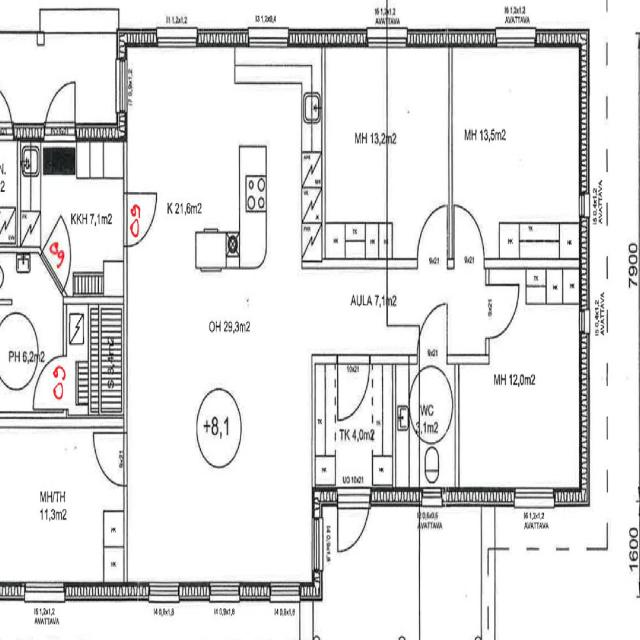door: (40, 212, 86, 293), (338, 487, 370, 565), (337, 354, 369, 421), (45, 70, 75, 140), (454, 205, 484, 268), (418, 205, 448, 268), (417, 302, 447, 364), (33, 356, 68, 409), (94, 433, 127, 486), (124, 194, 157, 246), (486, 286, 518, 338), (0, 69, 12, 141)
